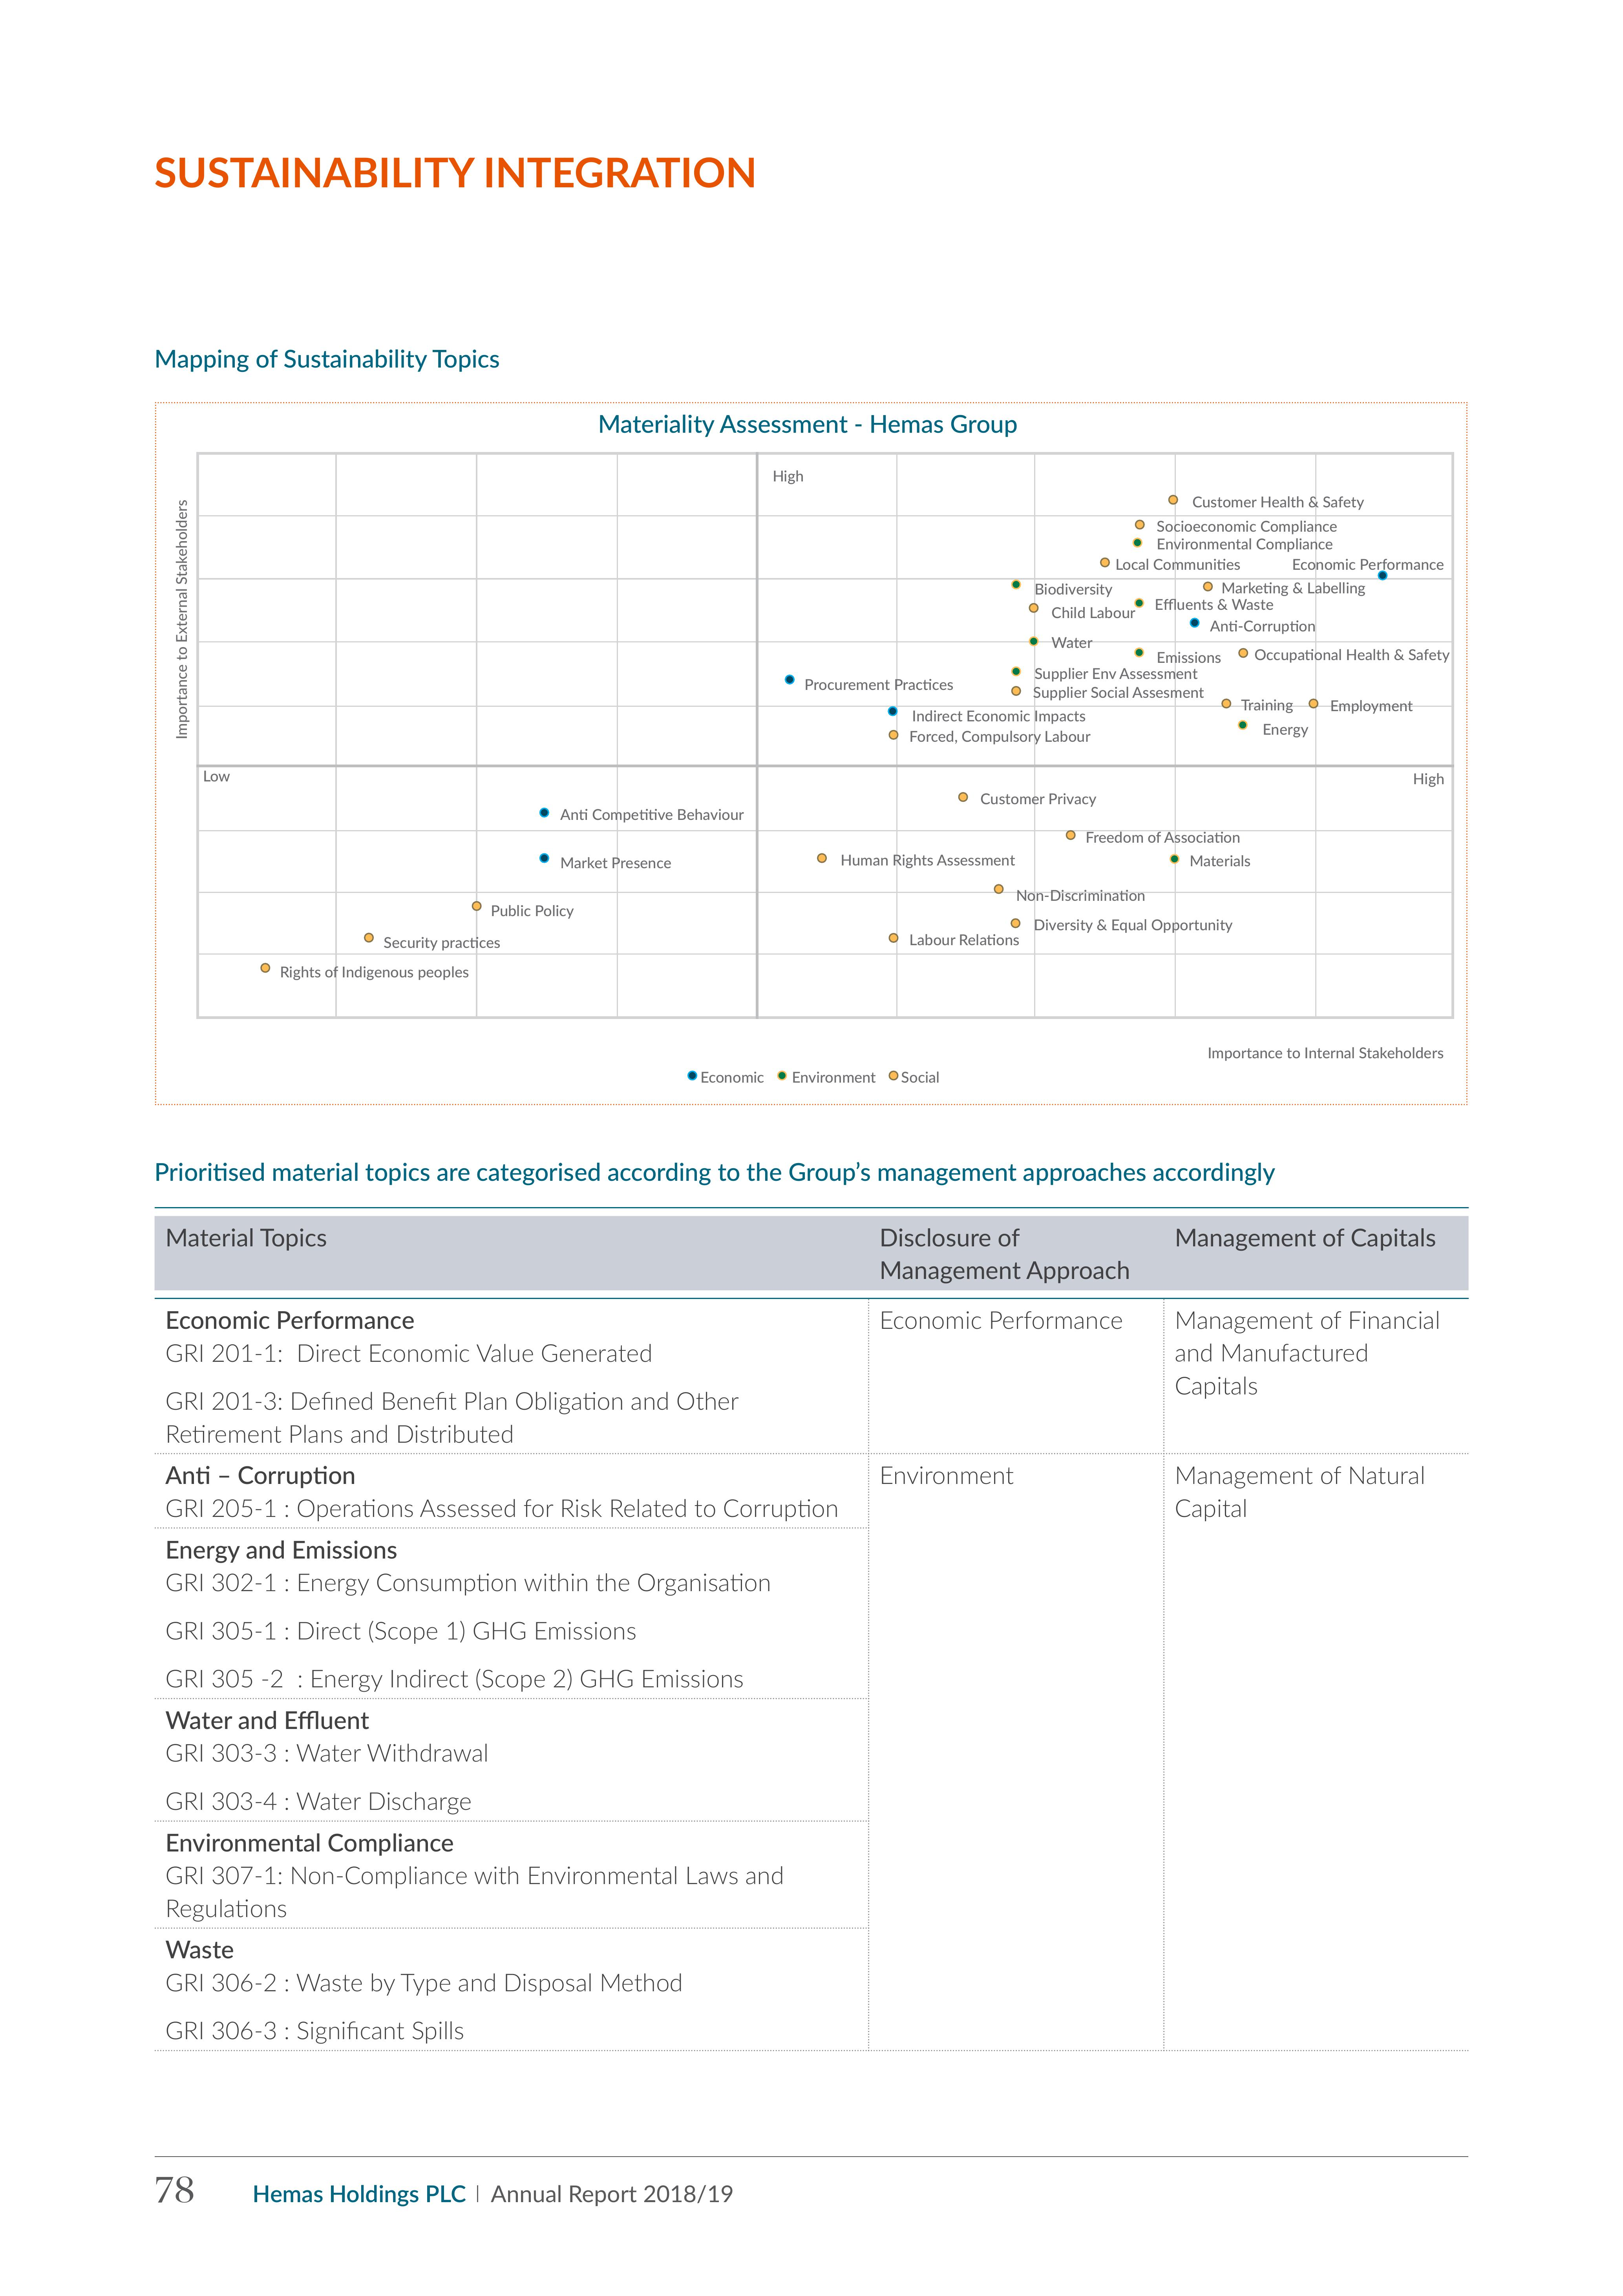table: (141, 1198, 1486, 2066)
